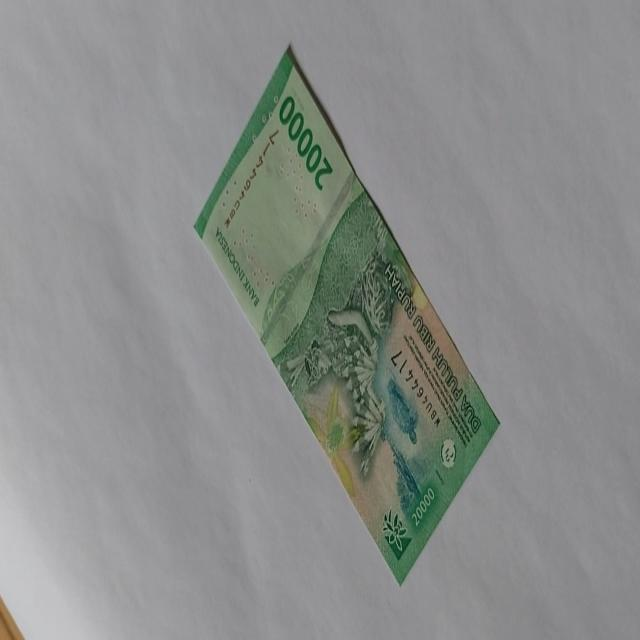dua puluh ribu rupiah: (193, 42, 502, 586), (262, 182, 420, 490)
